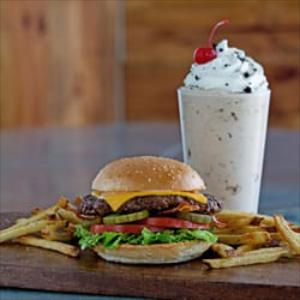cheeseburger: (85, 146, 226, 280)
